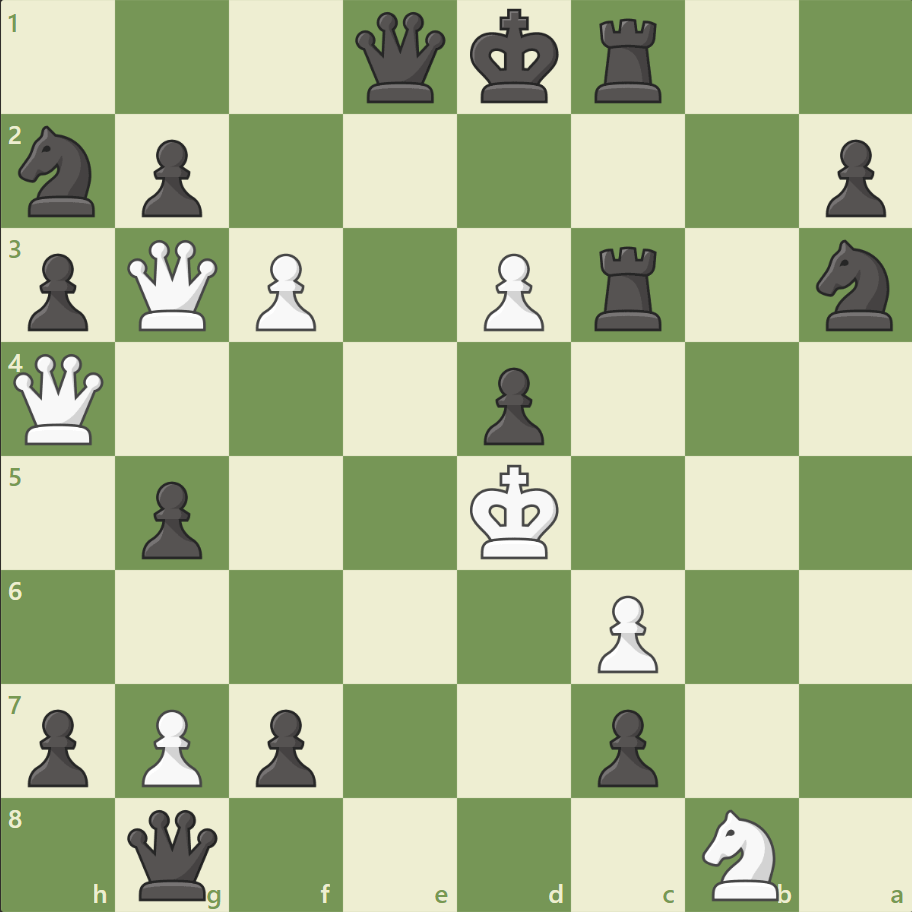K: (465, 458, 565, 566)
N: (692, 802, 789, 904)
P: (133, 700, 208, 791), (474, 246, 549, 337), (247, 246, 322, 337), (588, 586, 662, 677)
Q: (10, 349, 109, 449), (124, 236, 223, 335)
k: (465, 4, 565, 112)
n: (806, 234, 903, 337), (11, 121, 108, 223)
p: (247, 700, 322, 791), (20, 700, 95, 791), (133, 473, 208, 564), (474, 359, 549, 450), (20, 246, 95, 337), (133, 132, 208, 223), (588, 700, 662, 791), (815, 132, 889, 223)
q: (124, 804, 223, 903), (351, 9, 450, 108)
r: (587, 239, 670, 336), (587, 12, 670, 109)
